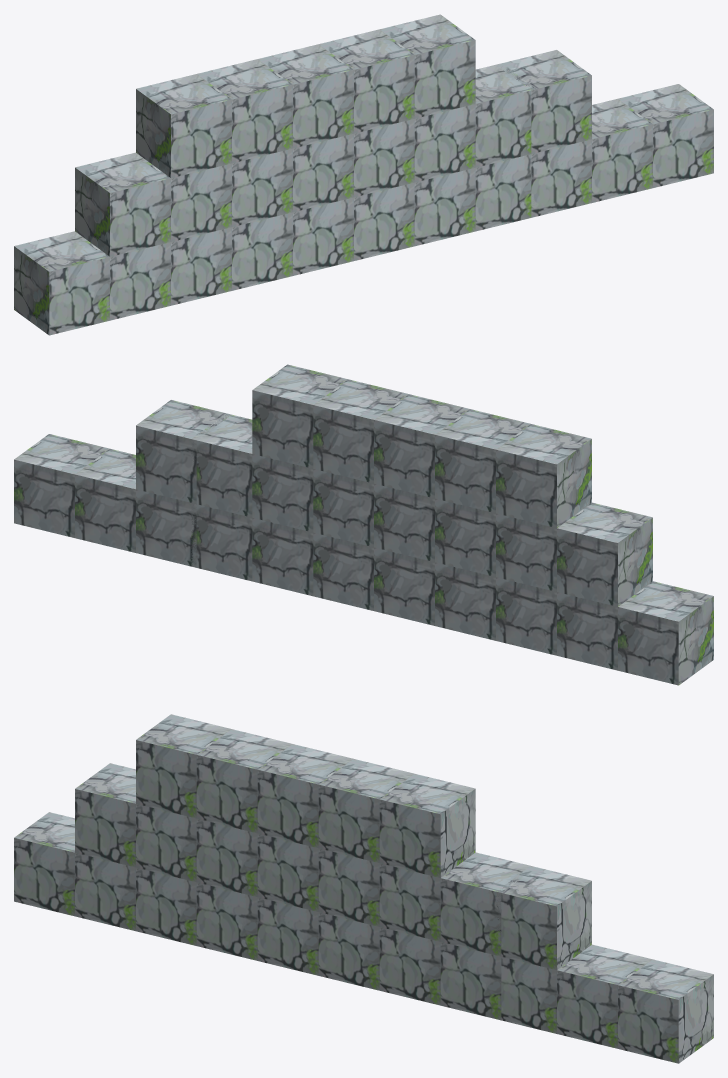
File: BrickWall1.fbx
3 renders of one model, top to bottom at view 1: azimuth 30°, elevation 25°; view 2: azimuth 150°, elevation 25°; view 3: azimuth 330°, elevation 25°, orthographic.
Parts seen in each view (by area): view 1: pCube87; view 2: pCube87; view 3: pCube87.
Boxes of the visible parts, left/top/right/bottom form: pCube87: left=14, top=14, right=713, bottom=335; pCube87: left=14, top=364, right=713, bottom=685; pCube87: left=14, top=714, right=713, bottom=1063.
Size of the model in its own units: 4364 by 1200 by 400.
